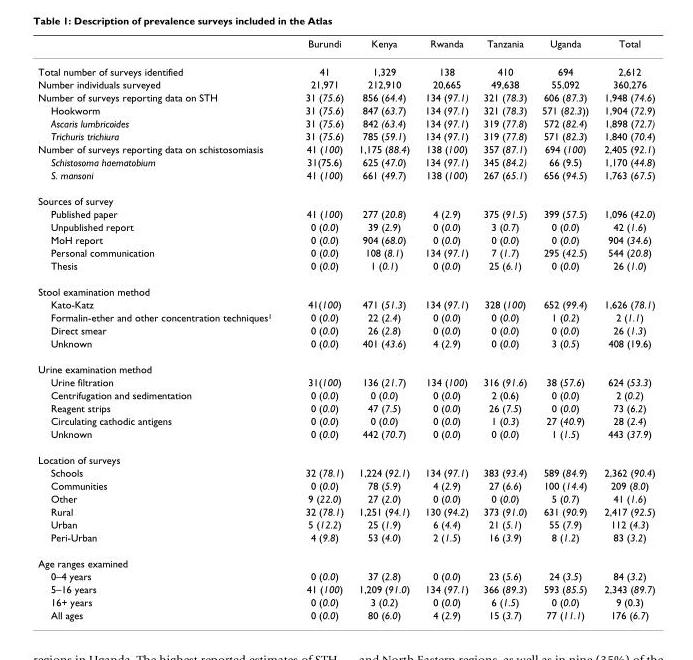table: (37, 37, 654, 620)
table column: (37, 37, 287, 620), (350, 37, 416, 620), (287, 37, 350, 620), (533, 37, 595, 620), (416, 37, 475, 620), (595, 37, 654, 620), (475, 37, 533, 620)
table column header: (37, 37, 654, 57)
table projected row header: (37, 187, 654, 207), (37, 355, 654, 375), (37, 278, 654, 297), (37, 446, 654, 465), (37, 550, 654, 569)
table row: (37, 37, 654, 57), (37, 57, 654, 77), (37, 187, 654, 207), (37, 258, 654, 278), (37, 355, 654, 375), (37, 530, 654, 550), (37, 168, 654, 187), (37, 278, 654, 297), (37, 336, 654, 355), (37, 427, 654, 446), (37, 446, 654, 465), (37, 550, 654, 569), (37, 77, 654, 90), (37, 90, 654, 103), (37, 103, 654, 116), (37, 116, 654, 129), (37, 129, 654, 142), (37, 142, 654, 155), (37, 155, 654, 168), (37, 207, 654, 220), (37, 220, 654, 233), (37, 245, 654, 258), (37, 297, 654, 310), (37, 310, 654, 323), (37, 323, 654, 336), (37, 375, 654, 388), (37, 388, 654, 401), (37, 401, 654, 414), (37, 414, 654, 427), (37, 465, 654, 478), (37, 478, 654, 491), (37, 491, 654, 504), (37, 504, 654, 517), (37, 517, 654, 530), (37, 569, 654, 582), (37, 582, 654, 595), (37, 595, 654, 608), (37, 233, 654, 245), (37, 608, 654, 620)
